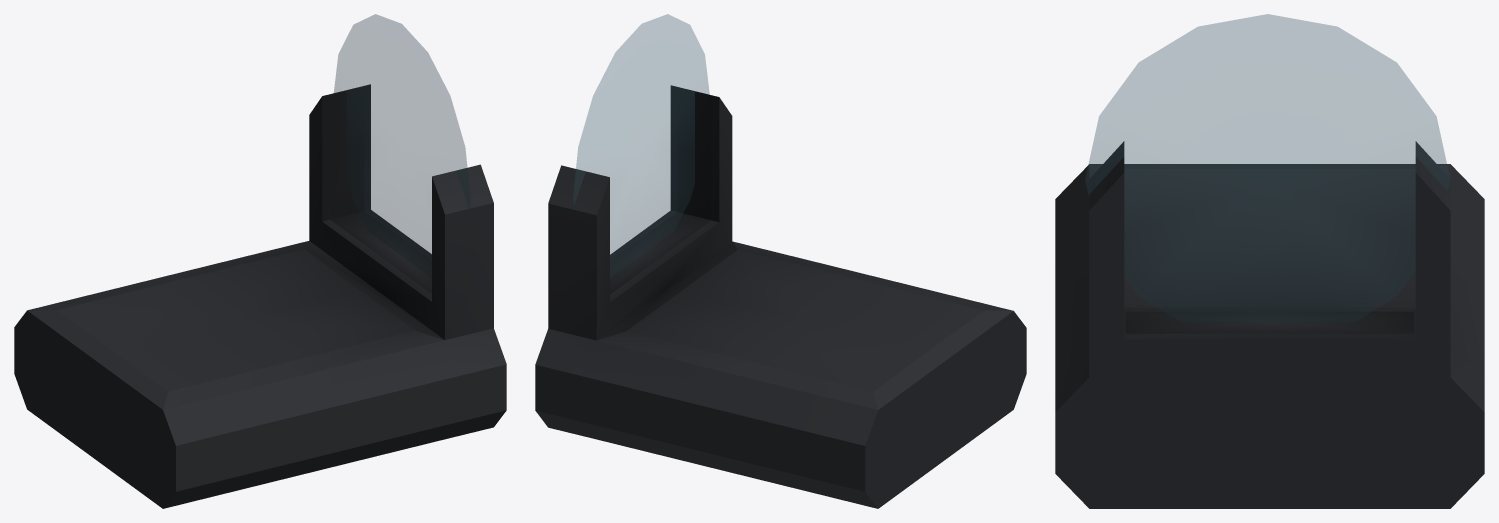
The model's file is k-att-reddot-lp4prminiqb.glb.
3 renders of one model, left to right at view 1: azimuth 30°, elevation 25°; view 2: azimuth 150°, elevation 25°; view 3: azimuth 270°, elevation 25°, orthographic. The views are drawn at different scales.
Parts seen in each view (by area): view 1: kit, lens; view 2: kit, lens; view 3: kit, lens.
Part boxes in pixels (x1,y1,x2,y2): kit: (14, 84, 506, 508); lens: (334, 14, 470, 277); kit: (535, 85, 1026, 508); lens: (573, 14, 709, 277); kit: (1055, 141, 1484, 508); lens: (1085, 14, 1449, 321).
Bounding box in the file's own units: 0.0464 × 0.0484 × 0.0393.
